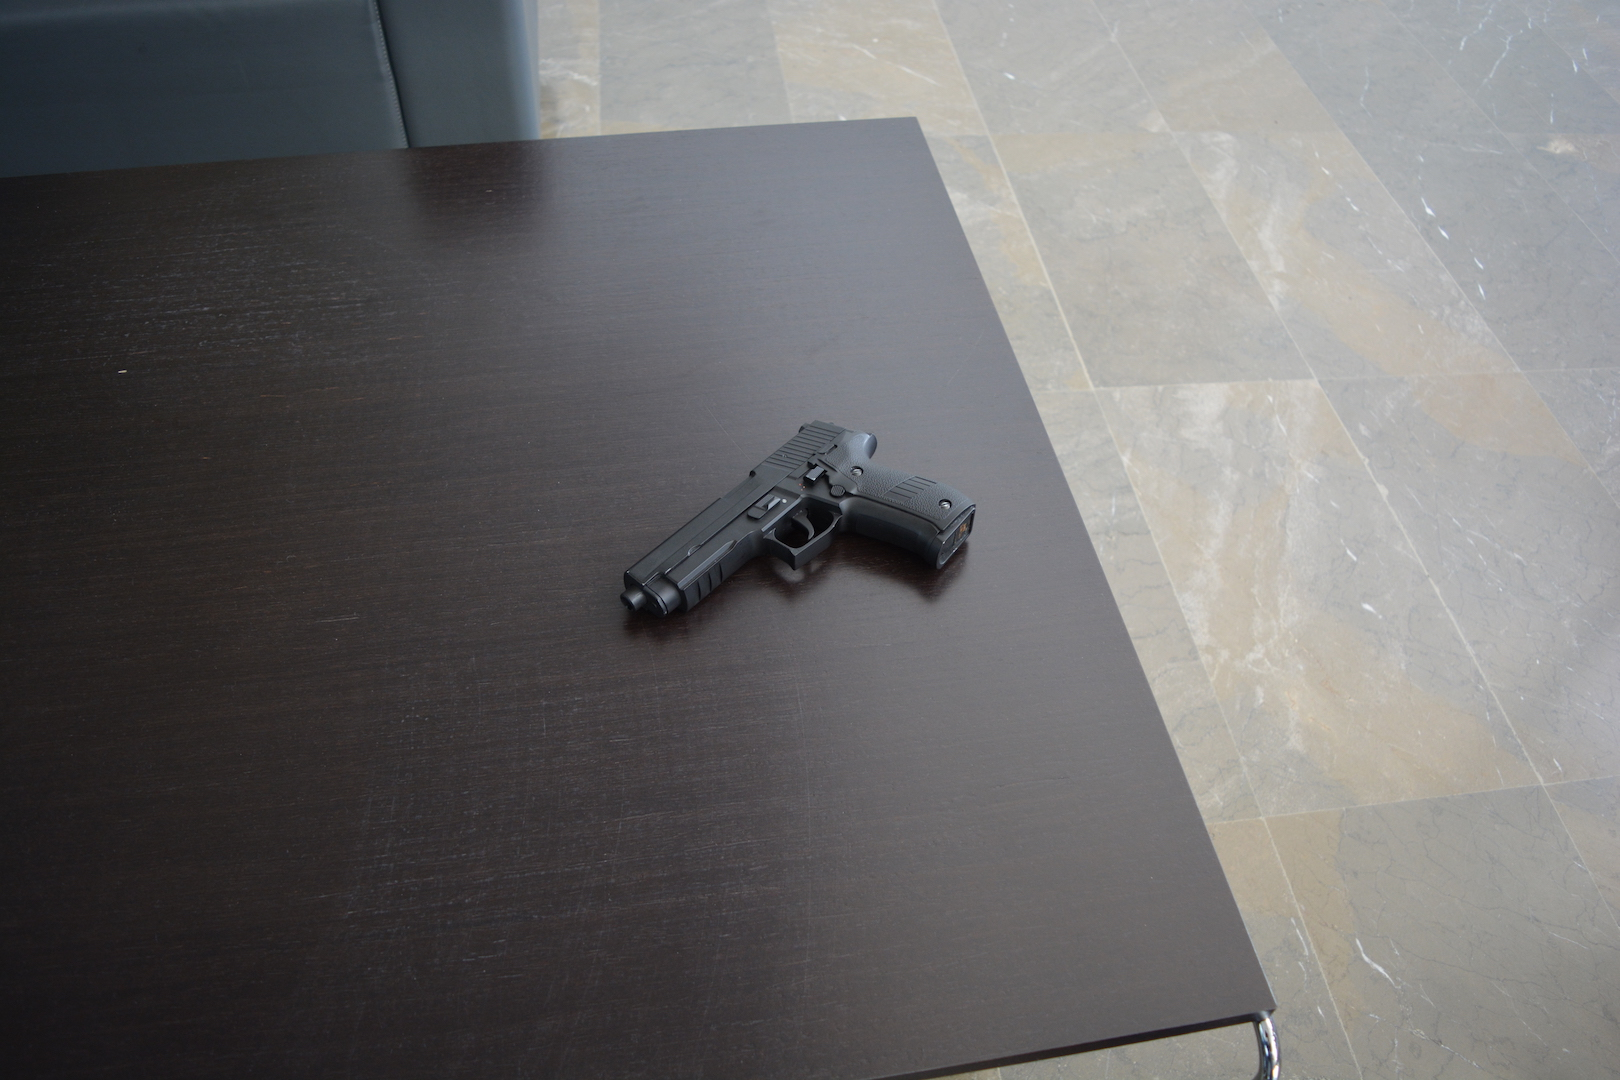pistol: (620, 419, 976, 620)
